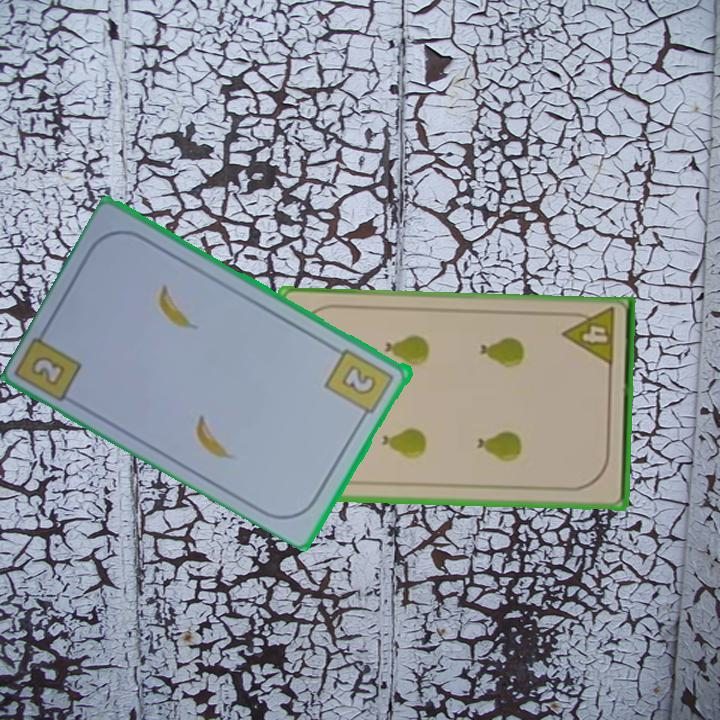2b: (322, 345, 398, 424), (30, 355, 65, 386)
4p: (560, 304, 618, 370)
